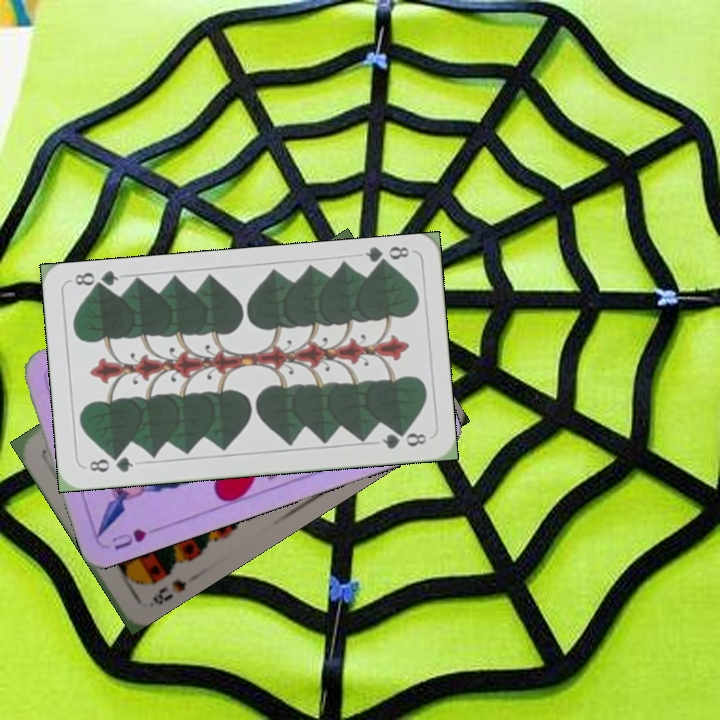G8: (361, 242, 412, 271), (85, 451, 136, 475)
HU: (108, 524, 150, 553)
S8: (148, 575, 190, 608)
